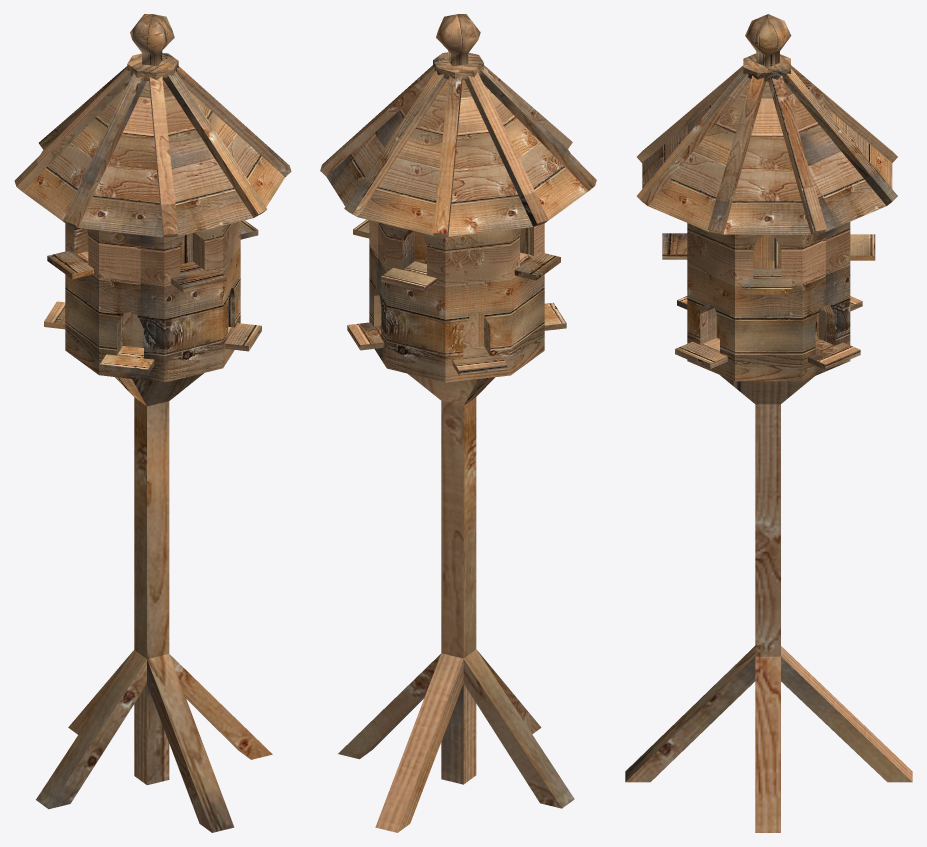
File: building_dovecote.glb
3 views of the same model, side by side, from view 1: azimuth 30°, elevation 25°; view 2: azimuth 150°, elevation 25°; view 3: azimuth 270°, elevation 25° (orthographic).
Visible parts, largest first — view 1: building_dovecote; view 2: building_dovecote; view 3: building_dovecote.
Boxes of the visible parts, box(x1,y1,x2,y2) form: building_dovecote: box(14, 14, 291, 832); building_dovecote: box(320, 14, 596, 832); building_dovecote: box(625, 14, 912, 832).
Size of the model in its own units: 1.09 by 3.49 by 1.19.
Materials: 1 (1 with a texture image).
